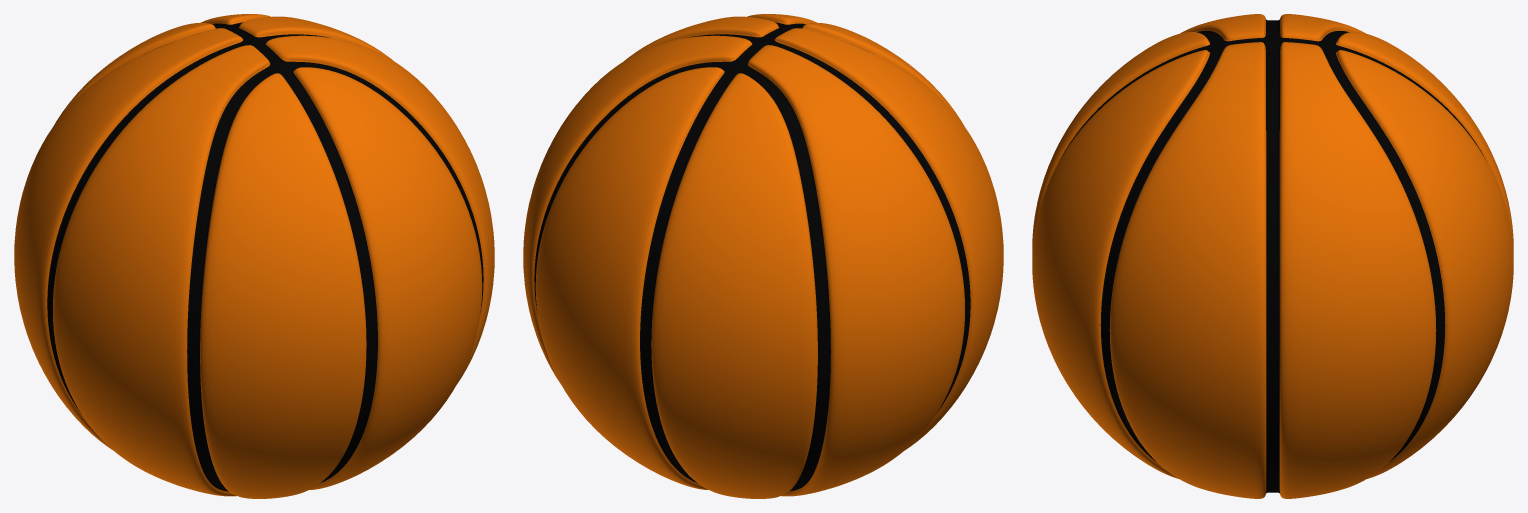
Rendered from basketball.fbx.
3 renders of one model, left to right at view 1: azimuth 30°, elevation 25°; view 2: azimuth 150°, elevation 25°; view 3: azimuth 270°, elevation 25°, orthographic.
Parts seen in each view (by area): view 1: 球体; view 2: 球体; view 3: 球体.
Boxes of the visible parts, bbox=[...] form: 球体: bbox=[14, 14, 494, 498]; 球体: bbox=[523, 14, 1003, 498]; 球体: bbox=[1032, 14, 1513, 498].
Bounding box in the file's own units: 189 × 190 × 189.
